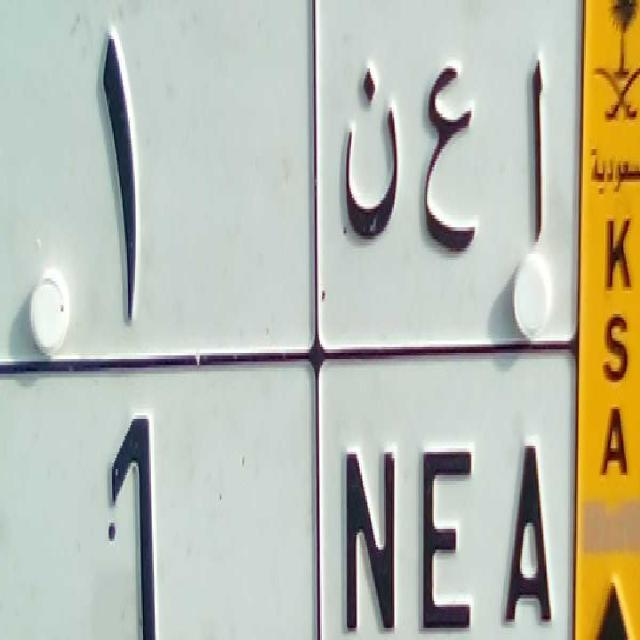license_plate: (34, 370, 567, 640)
